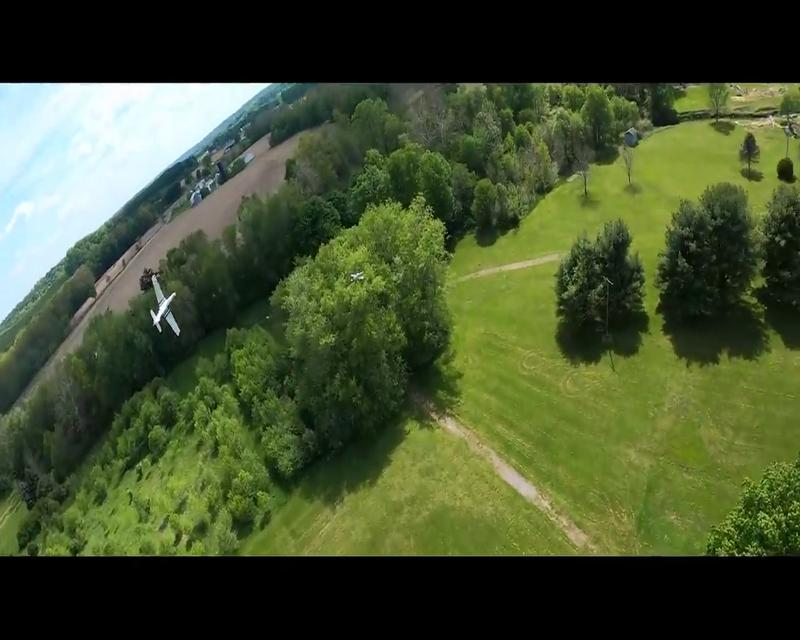UAV: (150, 275, 182, 337), (351, 269, 366, 284)
